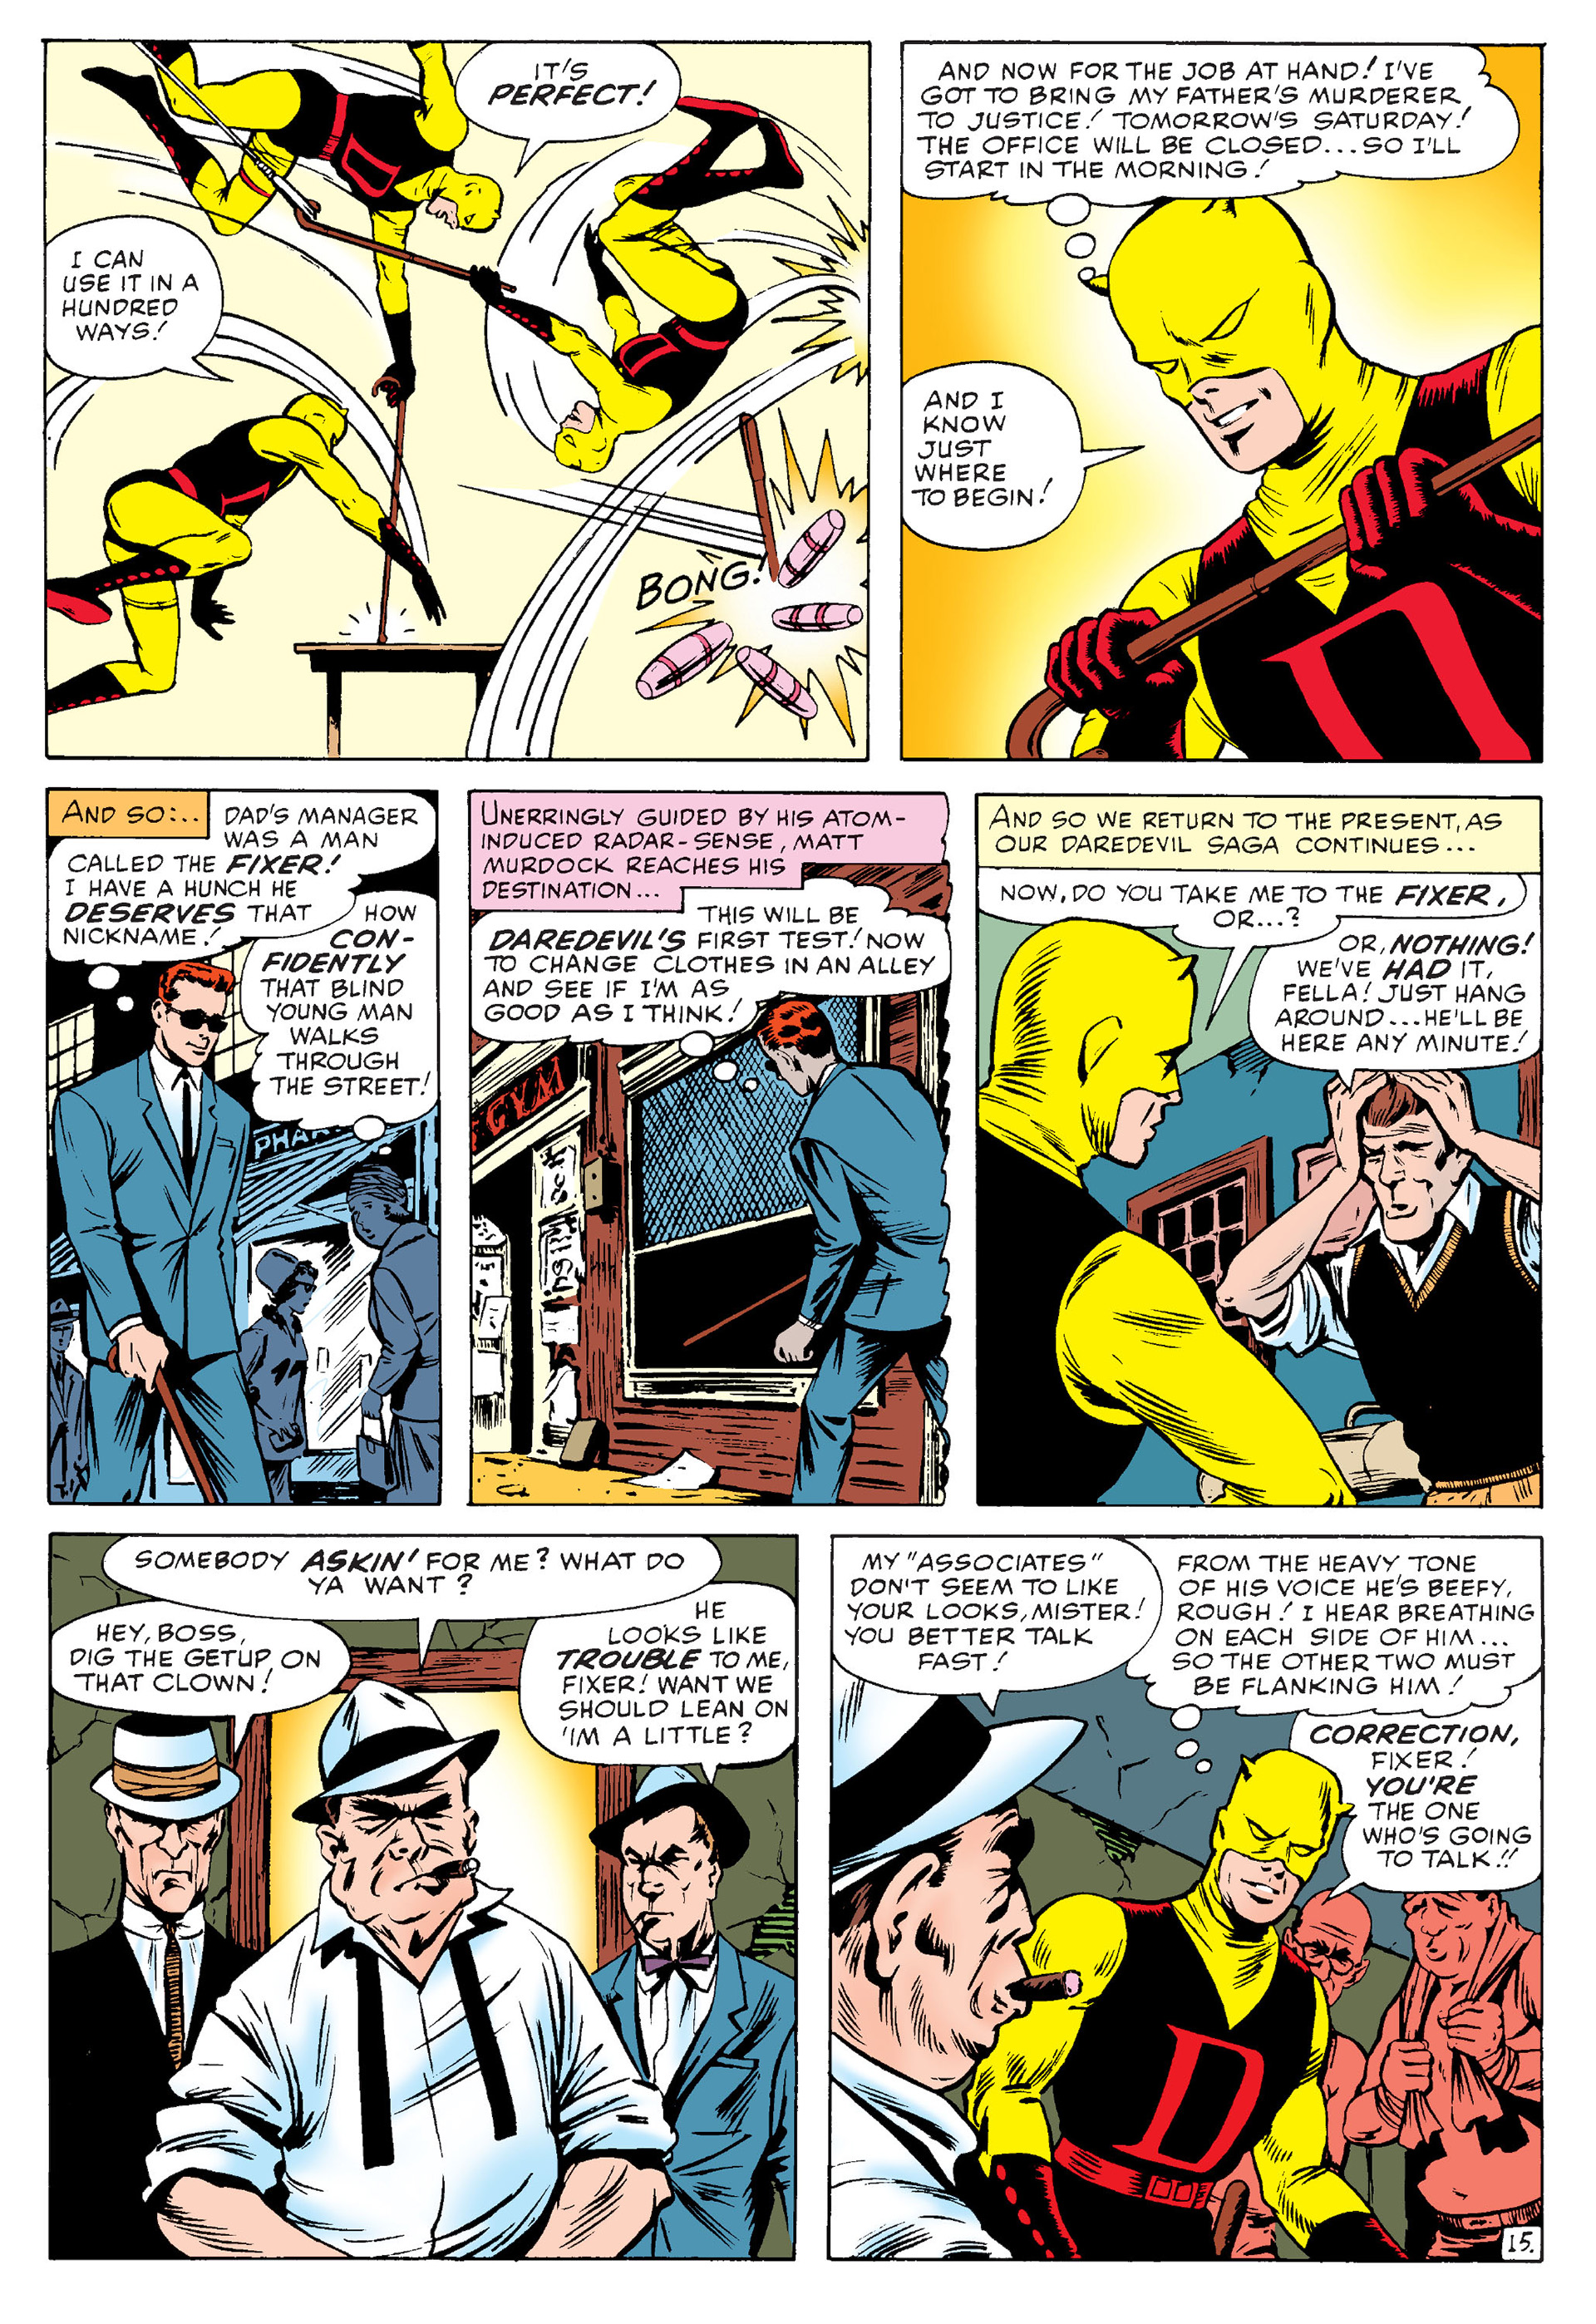Baloon: (904, 44, 1529, 244), (466, 879, 943, 1056), (1135, 1536, 1543, 1711), (90, 1526, 720, 1635), (44, 793, 427, 970), (835, 1536, 1163, 1715), (521, 1584, 798, 1794), (470, 793, 948, 911), (1252, 920, 1547, 1090), (900, 358, 1139, 565), (249, 894, 441, 1143), (48, 1602, 348, 1757), (1287, 1711, 1540, 1895), (973, 796, 1547, 876), (973, 876, 1532, 955), (44, 212, 228, 389), (452, 41, 683, 175), (34, 793, 217, 844)
Vignetta: (44, 34, 869, 765), (48, 1531, 793, 2257), (824, 1531, 1547, 2267), (904, 44, 1547, 765), (973, 793, 1547, 1505), (473, 786, 955, 1508), (48, 786, 441, 1505)
